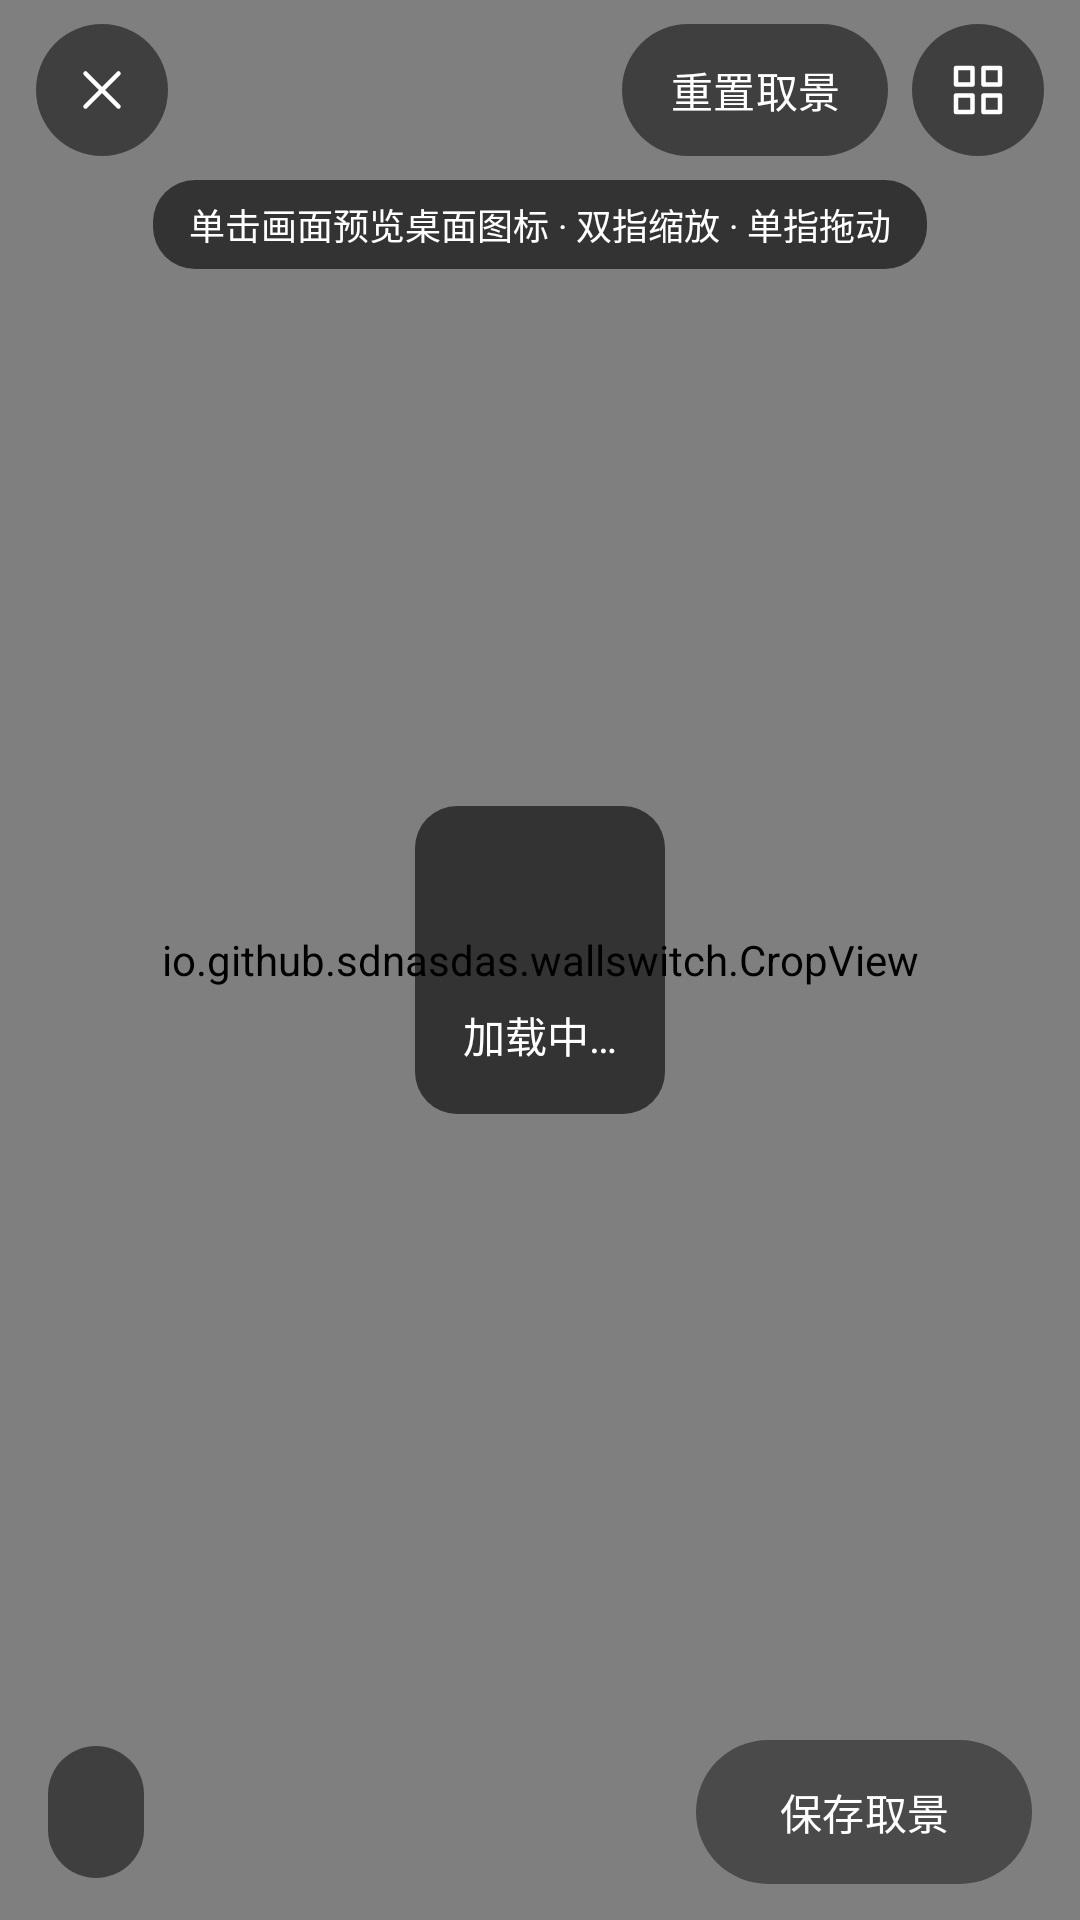

Screen size 1080x1920. Icon name, then its center in pixels as [x,y]:
取消: [102,90]
桌面图标预览: [978,90]
